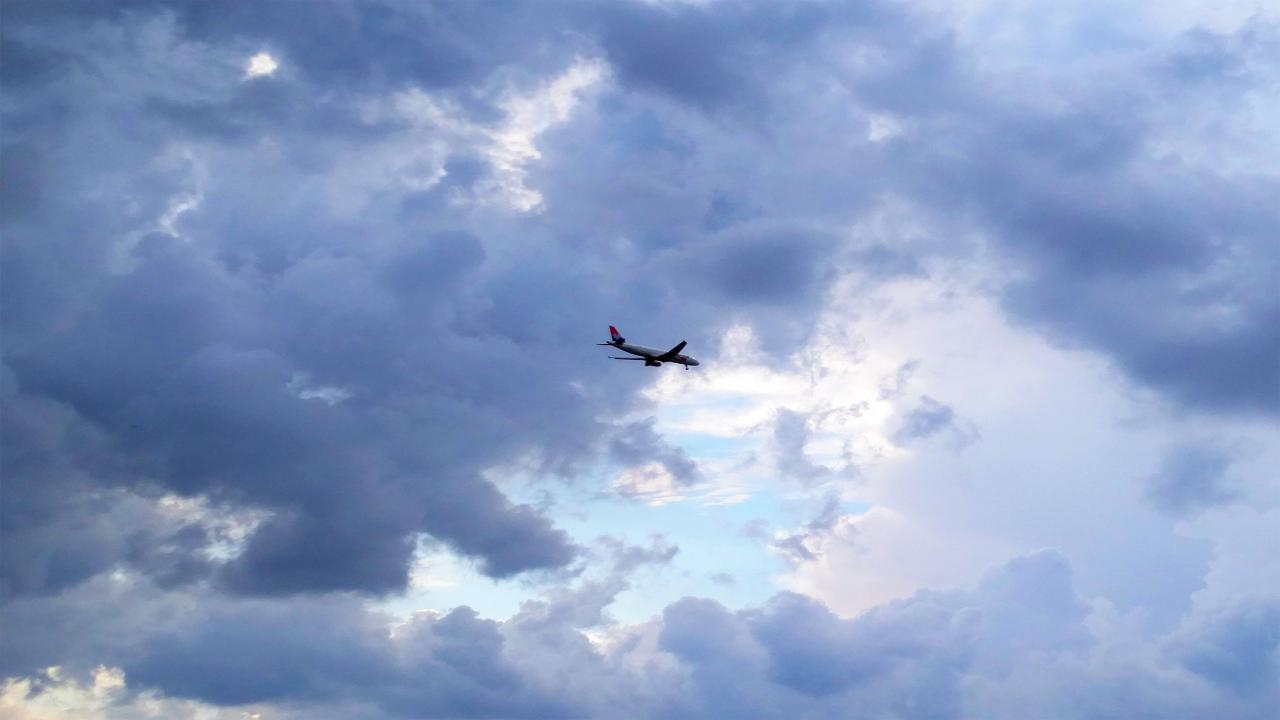Airplane: (587, 317, 710, 376)
